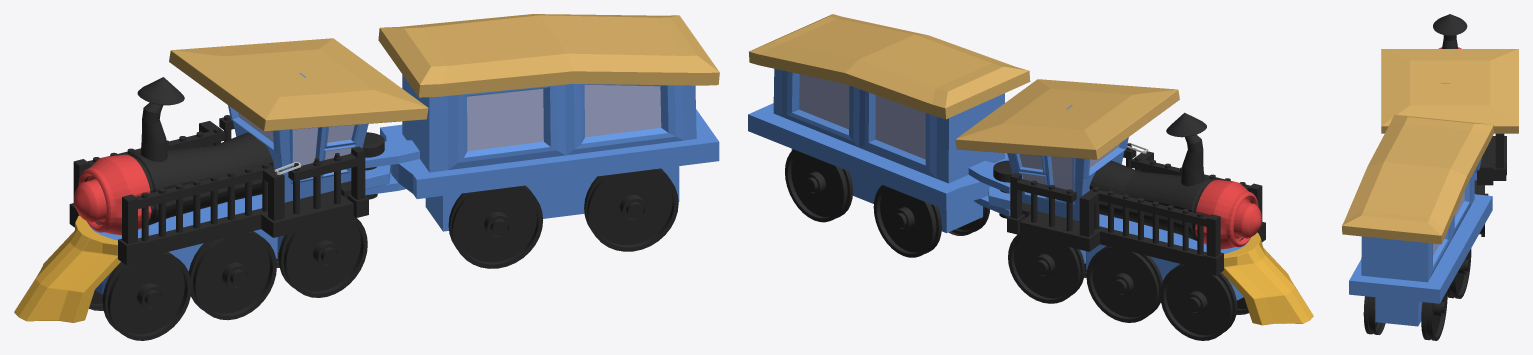
File: Kereta.fbx
The picture shows the model from 3 angles, left to right: view 1: azimuth 30°, elevation 25°; view 2: azimuth 150°, elevation 25°; view 3: azimuth 270°, elevation 25°; orthographic projection. The views are drawn at different scales.
Parts seen in each view (by area): view 1: Cube.005, Cube, Cube.001, Cylinder, Circle.003, Circle.004, Circle.001, Circle.002, Circle, Cube.002, Cylinder.001, Cube.003 (+2 smaller); view 2: Cube.005, Cube, Cube.001, Cylinder, Circle.001, Circle.002, Circle, Circle.004, Circle.003, Cube.002, Cylinder.001, Cube.003 (+1 smaller); view 3: Cube.005, Cube, Circle.003, Cube.001, Circle.004, Cone, Cylinder.001, Circle.
Part boxes in pixels (<box>): Cube.005: <box>365,14,719,231</box>; Cube: <box>14,38,428,322</box>; Cube.001: <box>69,117,368,265</box>; Cylinder: <box>74,132,273,235</box>; Circle.003: <box>584,168,678,251</box>; Circle.004: <box>448,185,542,268</box>; Circle.001: <box>89,252,191,340</box>; Circle.002: <box>188,231,276,320</box>; Circle: <box>276,216,367,297</box>; Cube.002: <box>93,127,269,241</box>; Cylinder.001: <box>140,102,167,161</box>; Cube.003: <box>224,115,340,214</box>; Cube.005: <box>748,14,1030,233</box>; Cube: <box>955,79,1313,325</box>; Cube.001: <box>1007,148,1265,275</box>; Cylinder: <box>1089,160,1261,249</box>; Circle.001: <box>1160,264,1248,340</box>; Circle.002: <box>1086,246,1162,322</box>; Circle: <box>1008,233,1086,303</box>; Circle.004: <box>873,185,989,257</box>; Circle.003: <box>785,149,852,222</box>; Cube.002: <box>1093,156,1245,254</box>; Cylinder.001: <box>1181,134,1204,186</box>; Cube.003: <box>1031,143,1132,231</box>; Cube.005: <box>1342,114,1493,326</box>; Cube: <box>1381,49,1518,180</box>; Circle.003: <box>1363,290,1447,340</box>; Cube.001: <box>1477,133,1506,185</box>; Circle.004: <box>1447,248,1471,298</box>; Cone: <box>1433,14,1467,35</box>; Cylinder.001: <box>1442,35,1458,48</box>; Circle: <box>1474,180,1488,236</box>.
Size of the model in its own units: 8702 by 2991 by 2811.
